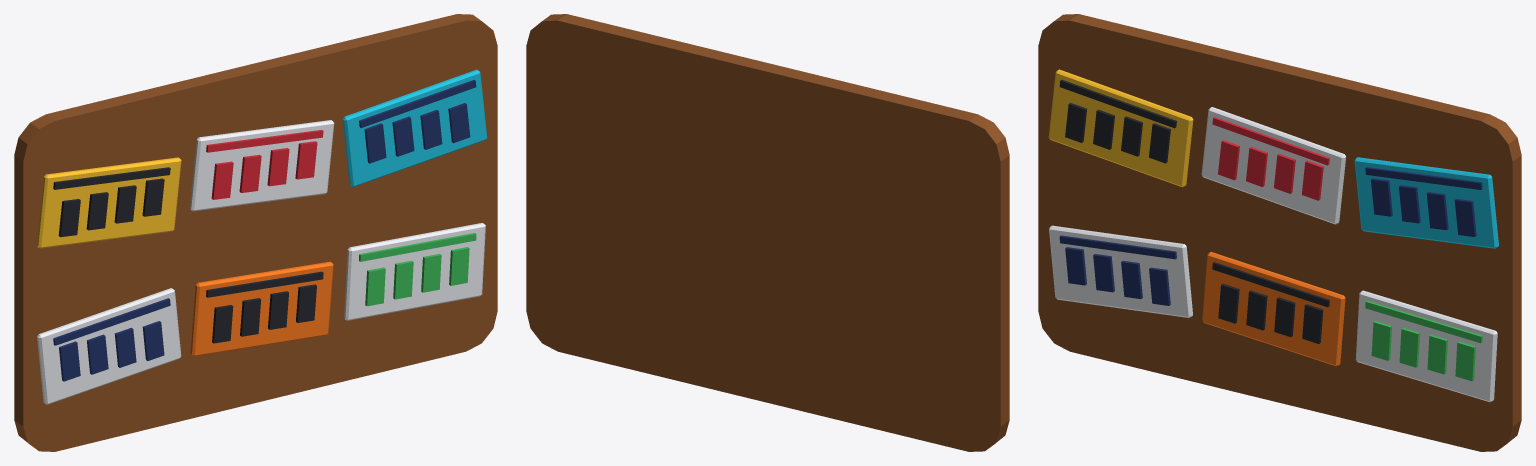
Rendered from PlateWall.fbx.
3 renders of one model, left to right at view 1: azimuth 30°, elevation 25°; view 2: azimuth 150°, elevation 25°; view 3: azimuth 330°, elevation 25°, orthographic.
Visible parts, largest first — view 1: PlateWall; view 2: PlateWall; view 3: PlateWall.
Boxes of the visible parts, x1,y1,x2,y2 form: PlateWall: [14, 14, 497, 451]; PlateWall: [526, 14, 1009, 451]; PlateWall: [1038, 14, 1521, 451].
Size of the model in its own units: 9 by 6 by 0.47.
Materials: 1 (1 with a texture image).
